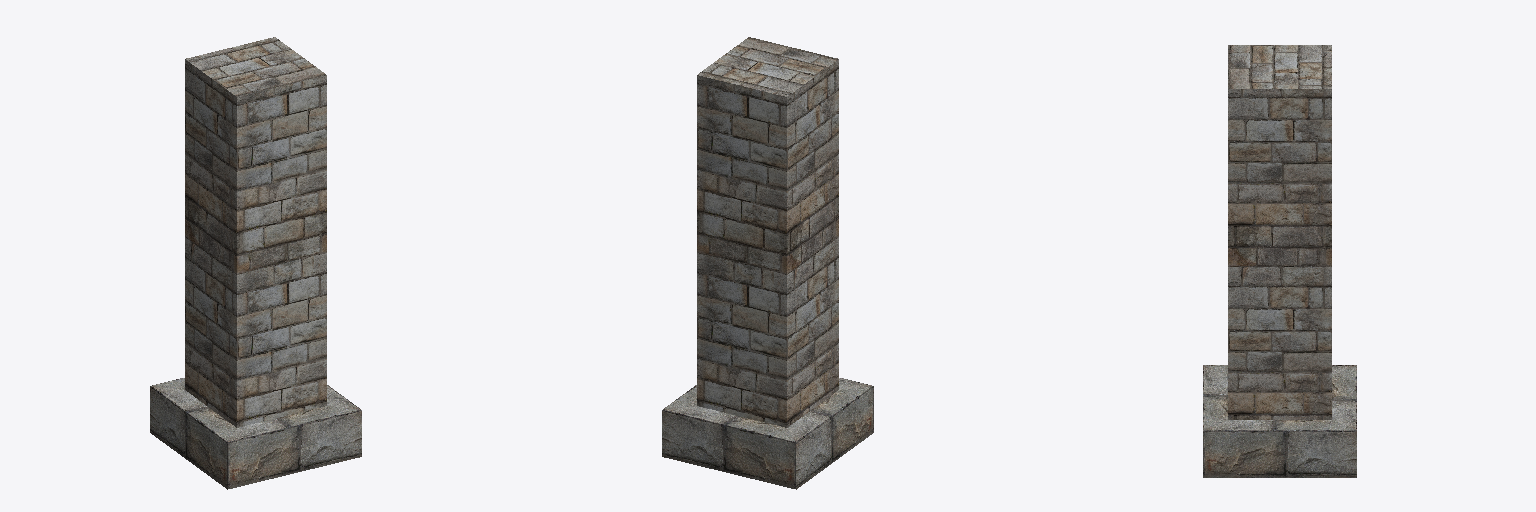
The picture shows the model from 3 angles: view 1: azimuth 30°, elevation 25°; view 2: azimuth 150°, elevation 25°; view 3: azimuth 270°, elevation 25°; orthographic projection.
Size of the model in its own units: 74.2 by 200 by 74.2.
2 materials, 2 textured.